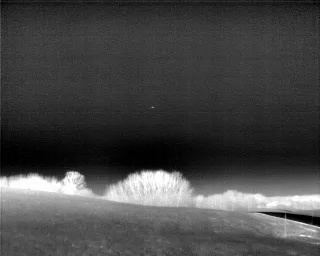BIRD: (149, 104, 156, 111)
